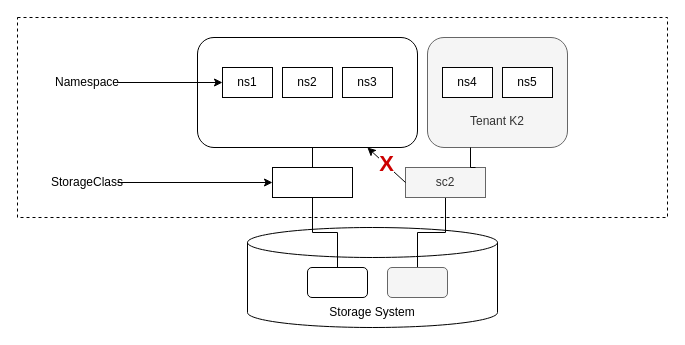
This 685x345 diagram has some shape labels left out. The shapes that lost their labels are listed below. From the top down, each one's box as (x1, y1, x2, y2) in pixels, then its label:
(196, 36, 418, 148): Tenant K1
(272, 166, 352, 198): sc1
(306, 266, 368, 298): Tenant S1
(386, 266, 448, 298): Tenant S2
